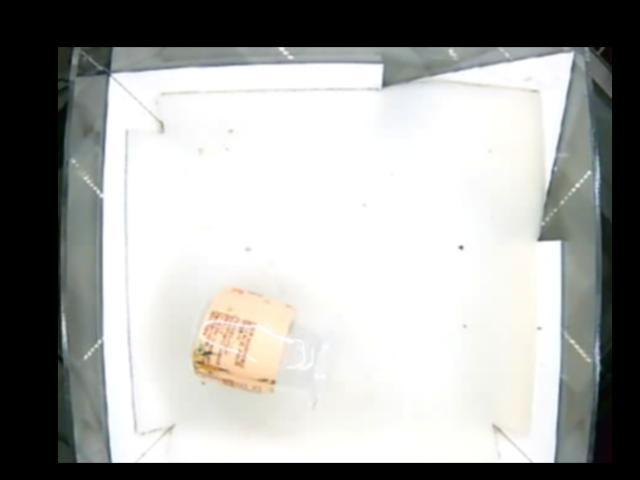Bottle: (186, 285, 332, 411)
